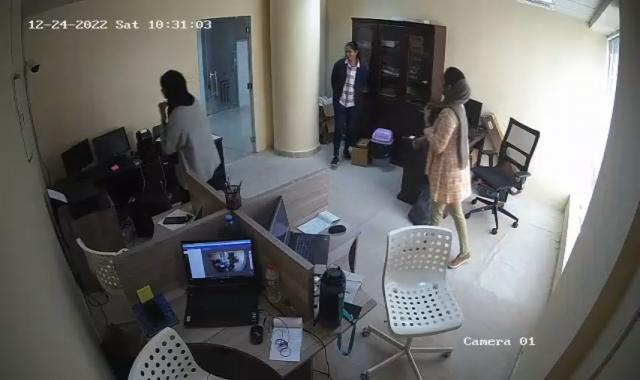no_hairnet: (435, 64, 471, 104), (156, 70, 194, 104), (345, 40, 360, 66)
